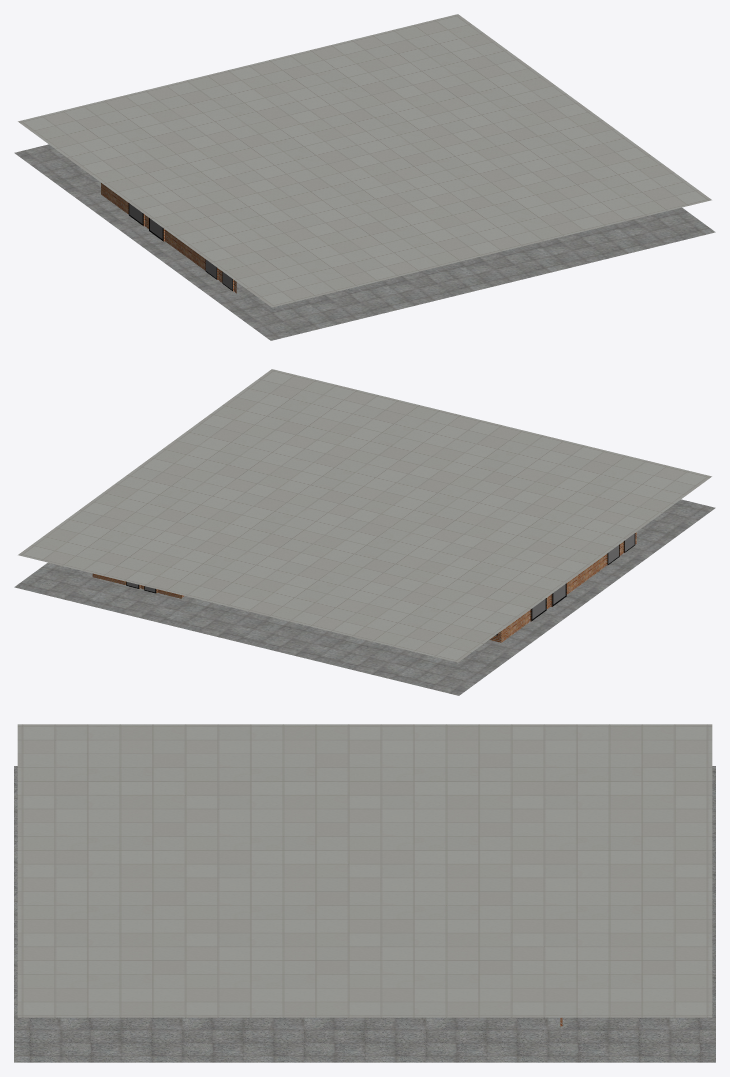
Rendered from pasilloA6.fbx.
3 views of the same model, one above another, from view 1: azimuth 30°, elevation 25°; view 2: azimuth 150°, elevation 25°; view 3: azimuth 270°, elevation 25° (orthographic). The views are drawn at different scales.
Parts seen in each view (by area): view 1: Plane, Plane.001, Plane.002; view 2: Plane, Plane.001, Plane.002; view 3: Plane, Plane.001.
Boxes of the visible parts, x1=… form: Plane: x1=18, y1=14, x2=711, y2=307; Plane.001: x1=14, y1=144, x2=715, y2=340; Plane.002: x1=101, y1=183, x2=236, y2=293; Plane: x1=18, y1=369, x2=711, y2=662; Plane.001: x1=14, y1=499, x2=715, y2=695; Plane.002: x1=501, y1=532, x2=636, y2=642; Plane: x1=17, y1=724, x2=712, y2=1017; Plane.001: x1=14, y1=766, x2=715, y2=1062.
Size of the model in its own units: 5956 by 406 by 5956.
6 materials, 5 textured.
